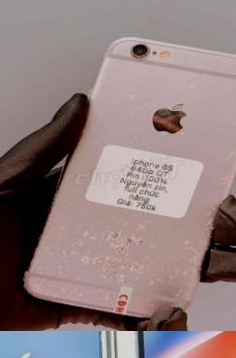scratch: (41, 196, 177, 296), (185, 104, 236, 296), (113, 72, 209, 149), (194, 40, 236, 91)
